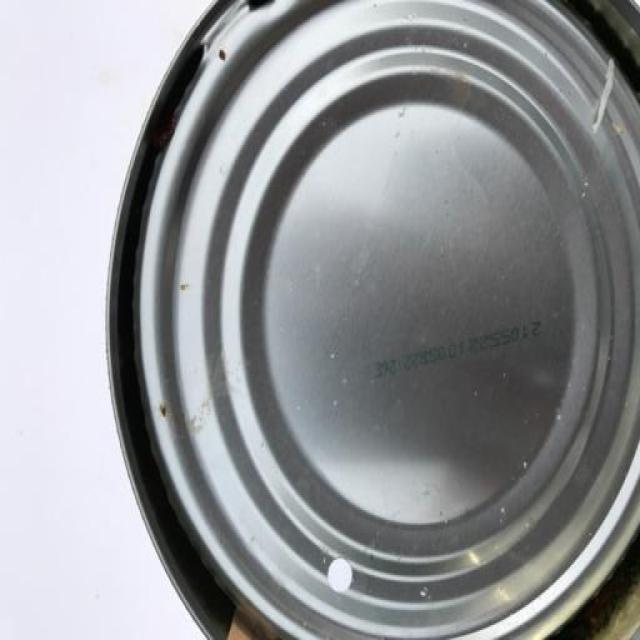metal: (103, 0, 638, 638)
